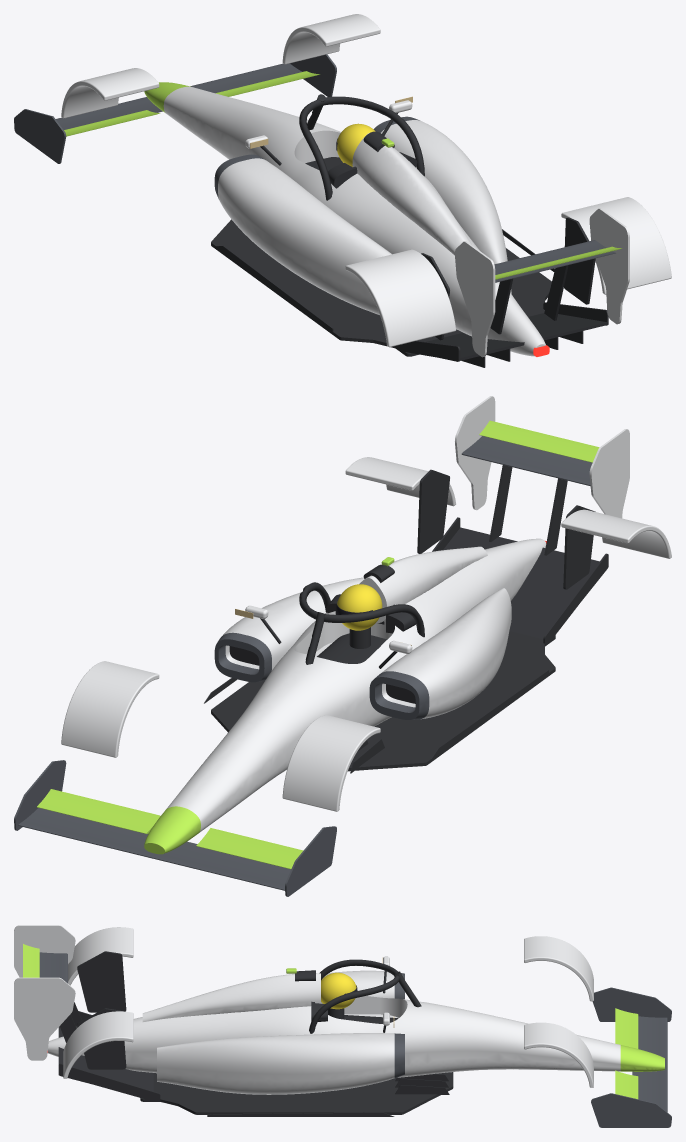
The model's file is body.glb.
3 views of the same model, one above another, from view 1: azimuth 30°, elevation 25°; view 2: azimuth 150°, elevation 25°; view 3: azimuth 270°, elevation 25° (orthographic). The views are drawn at different scales.
Parts seen in each view (by area): view 1: Livery, Carbon, LiveryWhite, Accent, Helmet; view 2: Livery, Carbon, LiveryWhite, Accent, Helmet; view 3: Livery, Carbon, LiveryWhite, Accent, Helmet.
Part boxes in pixels (<box>): Livery: <box>61,14,671,357</box>; Carbon: <box>211,94,608,367</box>; LiveryWhite: <box>14,54,615,282</box>; Accent: <box>64,71,621,279</box>; Helmet: <box>337,123,375,166</box>; Livery: <box>61,396,671,832</box>; Carbon: <box>204,465,608,773</box>; LiveryWhite: <box>14,436,592,896</box>; Accent: <box>37,420,599,869</box>; Helmet: <box>337,584,382,630</box>; Livery: <box>14,925,620,1094</box>; Carbon: <box>58,951,453,1116</box>; LiveryWhite: <box>39,952,671,1127</box>; Accent: <box>23,944,664,1099</box>; Helmet: <box>321,972,356,1009</box>.
Size of the model in its own units: 1.84 by 0.955 by 4.64.
